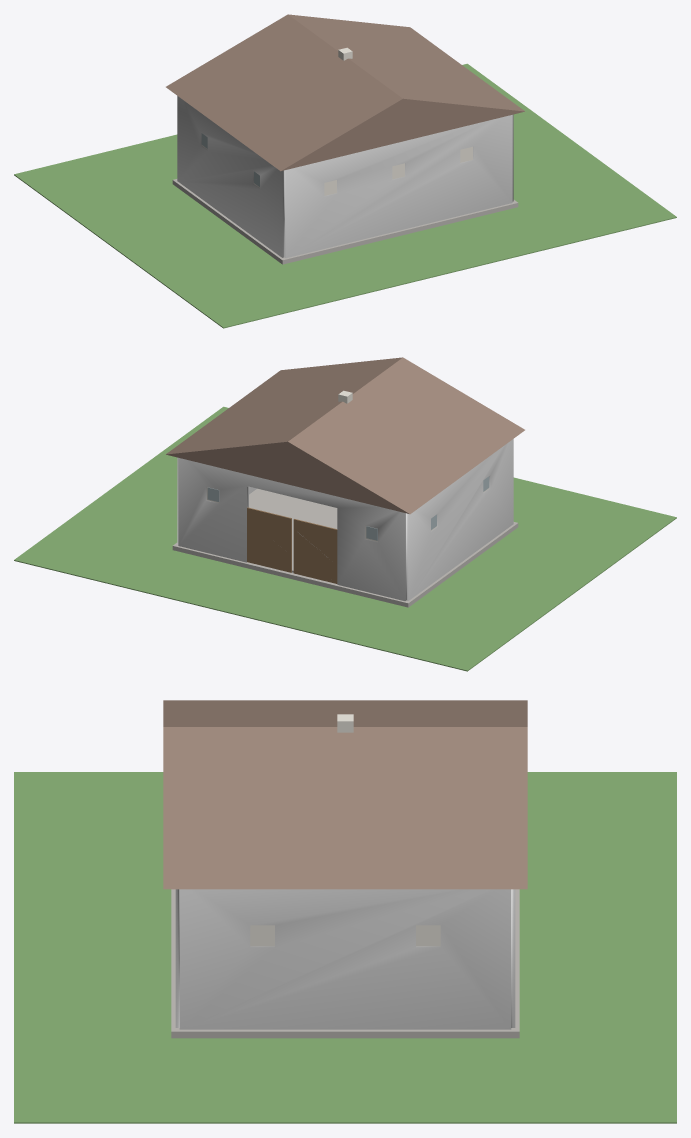
File: barn.glb
3 renders of one model, top to bottom at view 1: azimuth 30°, elevation 25°; view 2: azimuth 150°, elevation 25°; view 3: azimuth 270°, elevation 25°, orthographic. The views are drawn at different scales.
Parts seen in each view (by area): view 1: ground, roof, back_wall, left_wall, foundation; view 2: ground, roof, front_wall, left_wall, door_r, door_l, foundation, floor; view 3: ground, roof, right_wall, foundation, front_wall, back_wall.
Part boxes in pixels (x1,y1,x2,y2): ground: (14,63,676,328); roof: (166,14,524,171); back_wall: (284,115,512,257); left_wall: (177,96,284,257); foundation: (172,179,518,264); ground: (14,406,676,671); roof: (166,357,524,514); front_wall: (178,458,406,600); left_wall: (406,439,513,600); door_r: (247,507,291,572); door_l: (293,519,337,583); foundation: (172,522,518,607); floor: (249,488,337,572); ground: (14,772,676,1123); roof: (163,700,527,889); right_wall: (179,889,511,1029); foundation: (171,889,519,1038); front_wall: (511,889,515,1027); back_wall: (175,889,179,1027).
Bounding box in the file's own units: 20 × 7.15 × 16.
